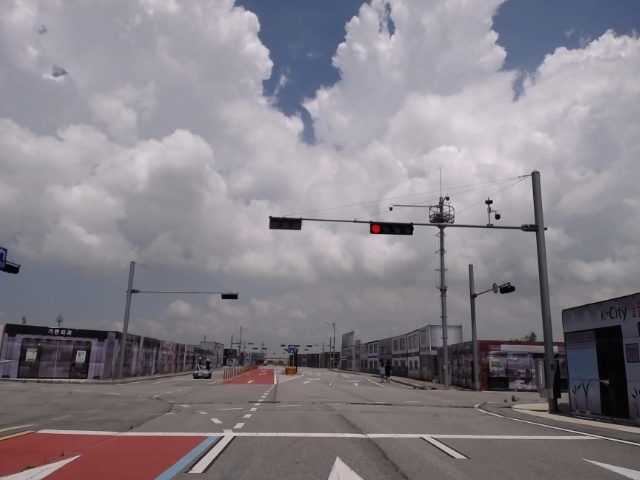red_4: (370, 223, 412, 235)
